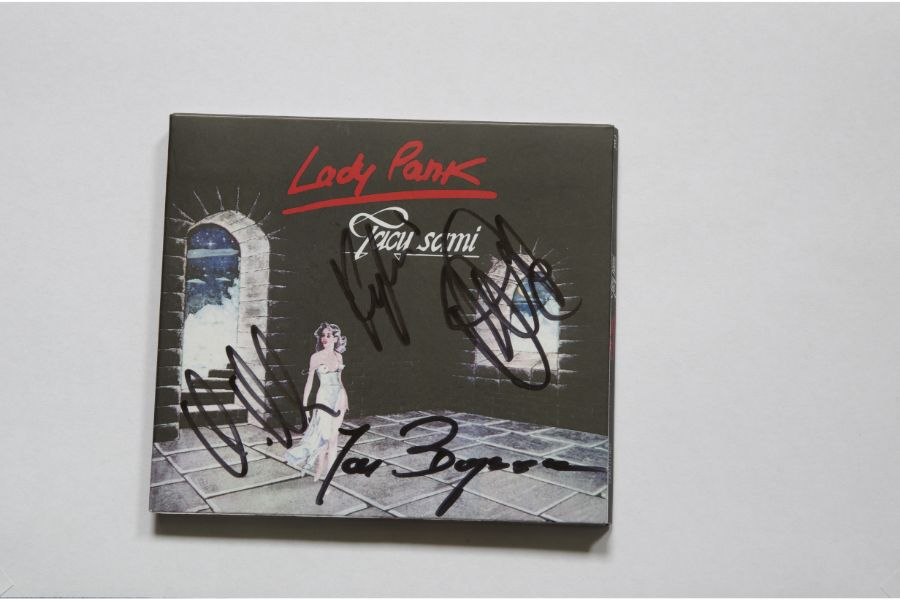album: (147, 111, 615, 526)
